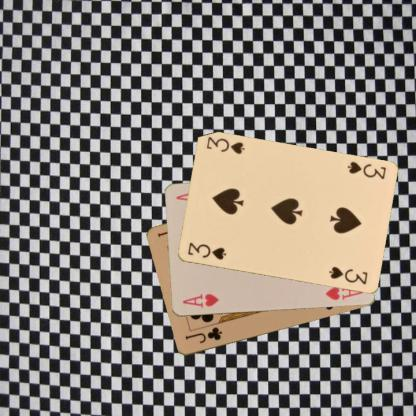3s: (344, 159, 387, 181), (185, 240, 227, 262)
Ah: (180, 292, 220, 310)
Jc: (182, 325, 223, 345)
